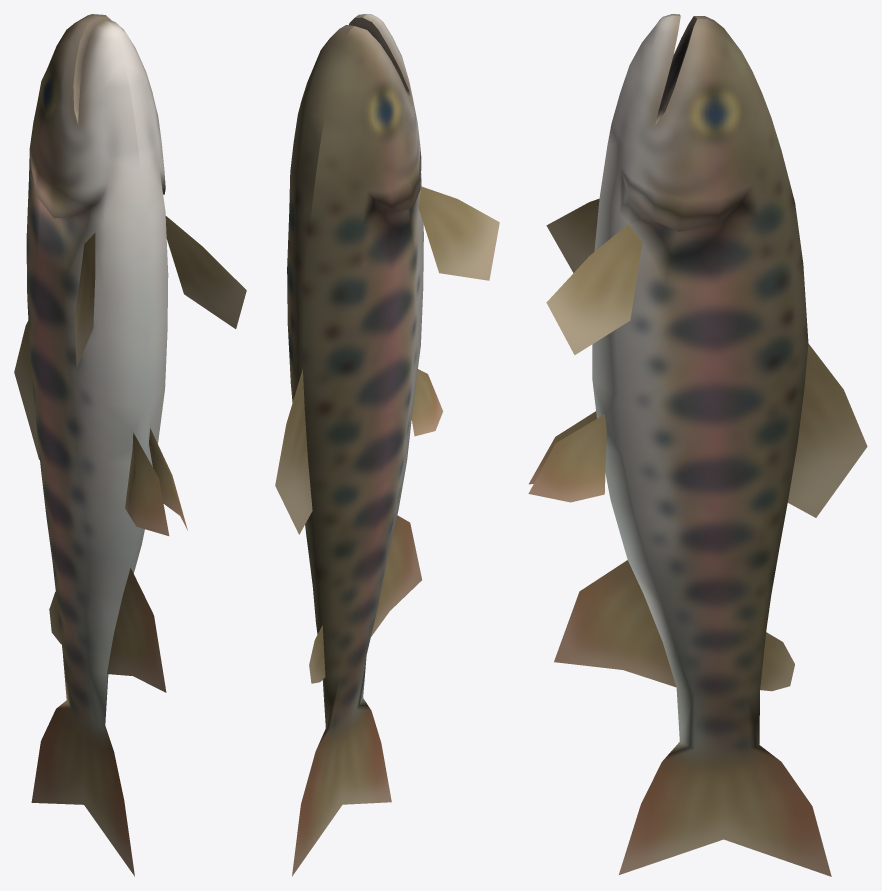
The model's file is yamame-trout.glb.
3 renders of one model, left to right at view 1: azimuth 30°, elevation 25°; view 2: azimuth 150°, elevation 25°; view 3: azimuth 270°, elevation 25°, orthographic. The views are drawn at different scales.
Parts seen in each view (by area): view 1: FishYamame__mYamame; view 2: FishYamame__mYamame; view 3: FishYamame__mYamame.
Boxes of the visible parts, x1,y1,x2,y2 form: FishYamame__mYamame: (14, 14, 246, 876); FishYamame__mYamame: (275, 14, 499, 876); FishYamame__mYamame: (528, 14, 867, 876).
Size of the model in its own units: 0.1579 by 0.7919 by 0.2825.
1 material, 1 textured.
